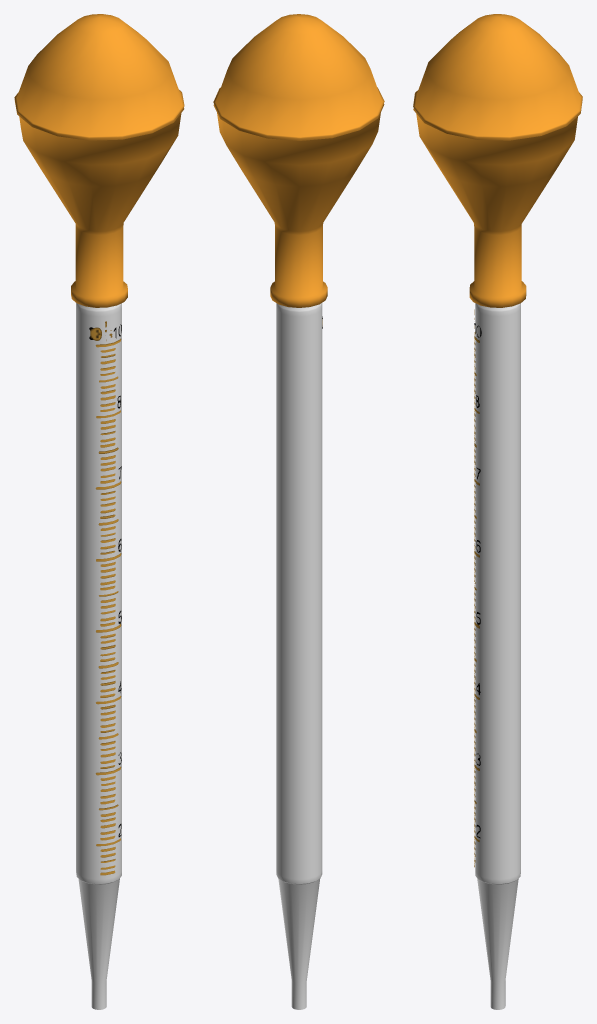
Rendered from pipette_orange.gltf.
3 renders of one model, left to right at view 1: azimuth 30°, elevation 25°; view 2: azimuth 150°, elevation 25°; view 3: azimuth 270°, elevation 25°, orthographic.
Parts seen in each view (by area): view 1: Dropper_1; view 2: Dropper_1; view 3: Dropper_1.
Boxes of the visible parts, x1,y1,x2,y2 form: Dropper_1: (14,14,184,1009); Dropper_1: (213,14,384,1009); Dropper_1: (413,14,582,1009).
Bounding box in the file's own units: 0.0626 × 0.4027 × 0.0626.
Materials: 3 (1 with a texture image).
